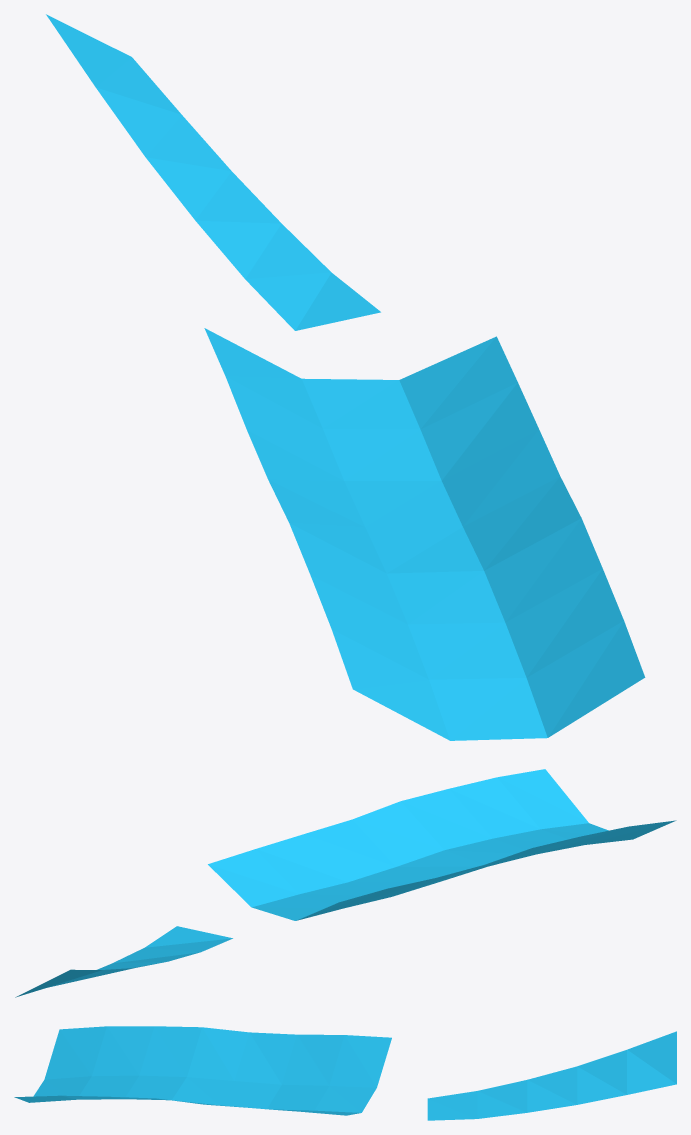
File: hand0423g_index_to_palm_aligned.obj
3 views of the same model, one above another, from view 1: azimuth 30°, elevation 25°; view 2: azimuth 150°, elevation 25°; view 3: azimuth 270°, elevation 25° (orthographic). The views are drawn at different scales.
Visible parts, largest first — view 1: finger_to_palm_index; view 2: finger_to_palm_index; view 3: finger_to_palm_index.
Part boxes in pixels (x1,y1,x2,y2): finger_to_palm_index: (46,14,645,740); finger_to_palm_index: (15,769,676,997); finger_to_palm_index: (14,1026,676,1120).
Size of the model in its own units: 0.7544 by 0.3586 by 2.01.
